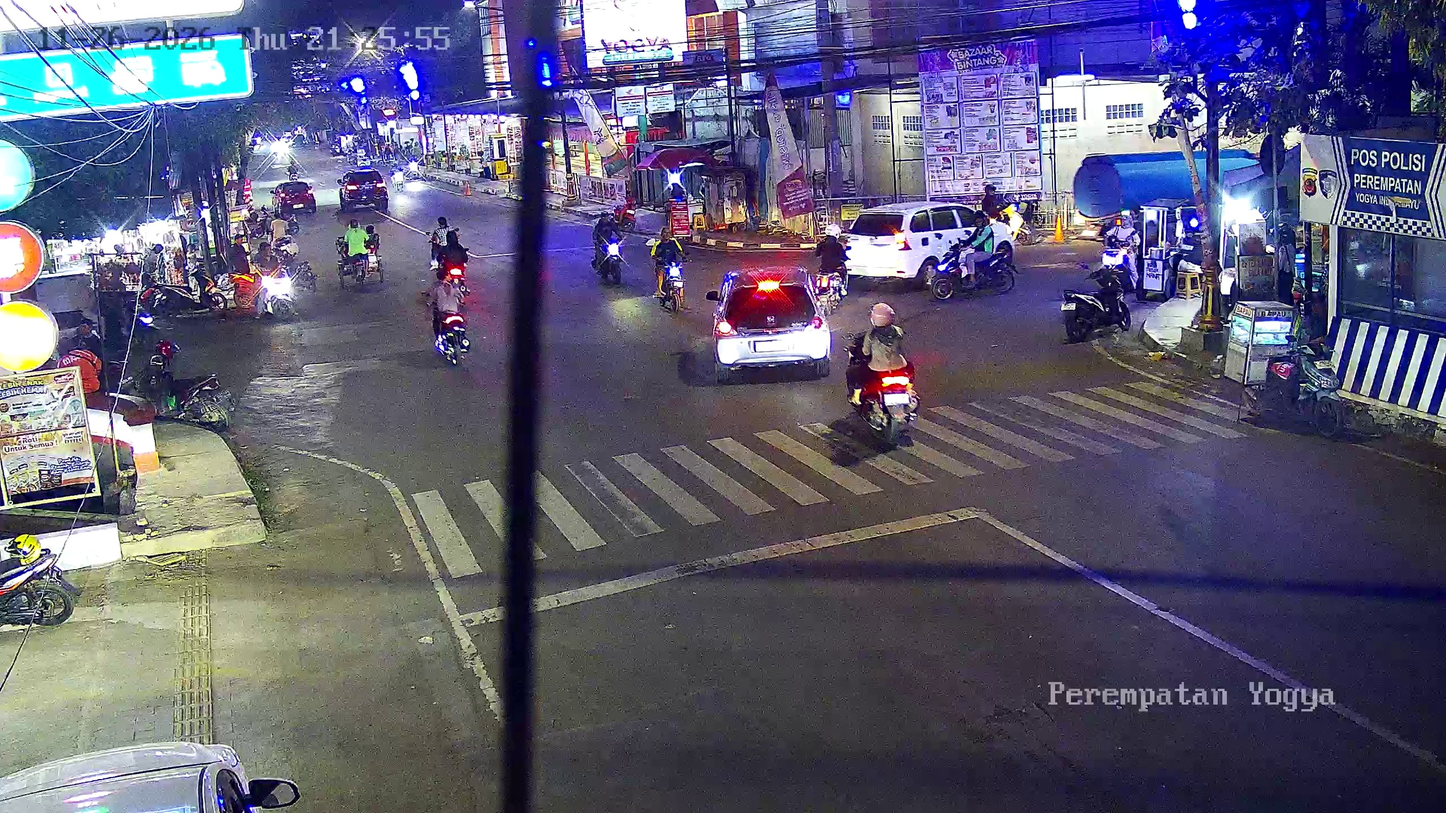Gerobak: (1223, 298, 1299, 388)
